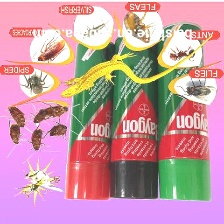aerosol_cans: (154, 20, 216, 202), (106, 31, 163, 201), (61, 36, 117, 204)
